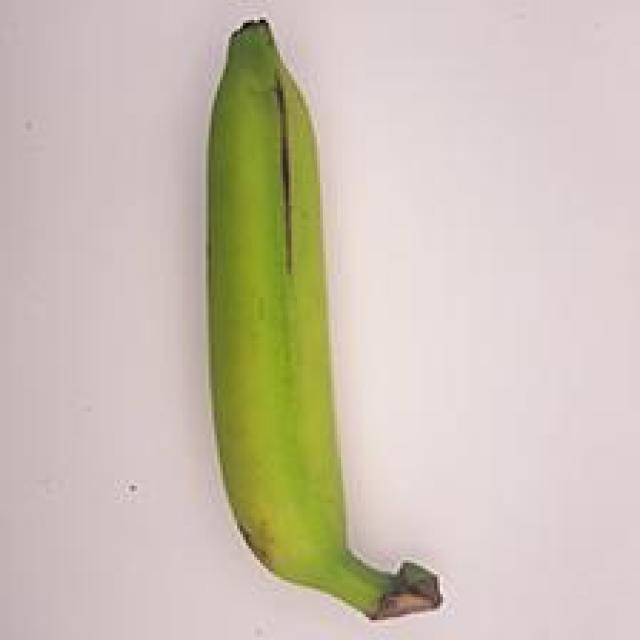Unripe: (151, 0, 468, 637)
